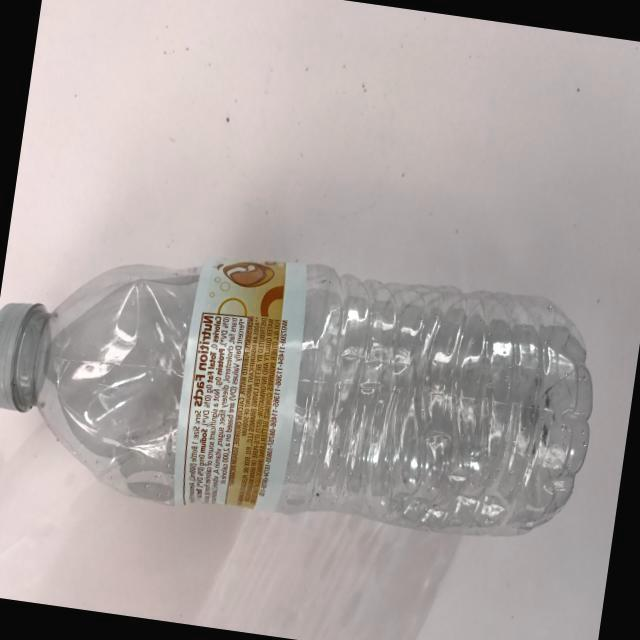plastic: (0, 199, 623, 577)
